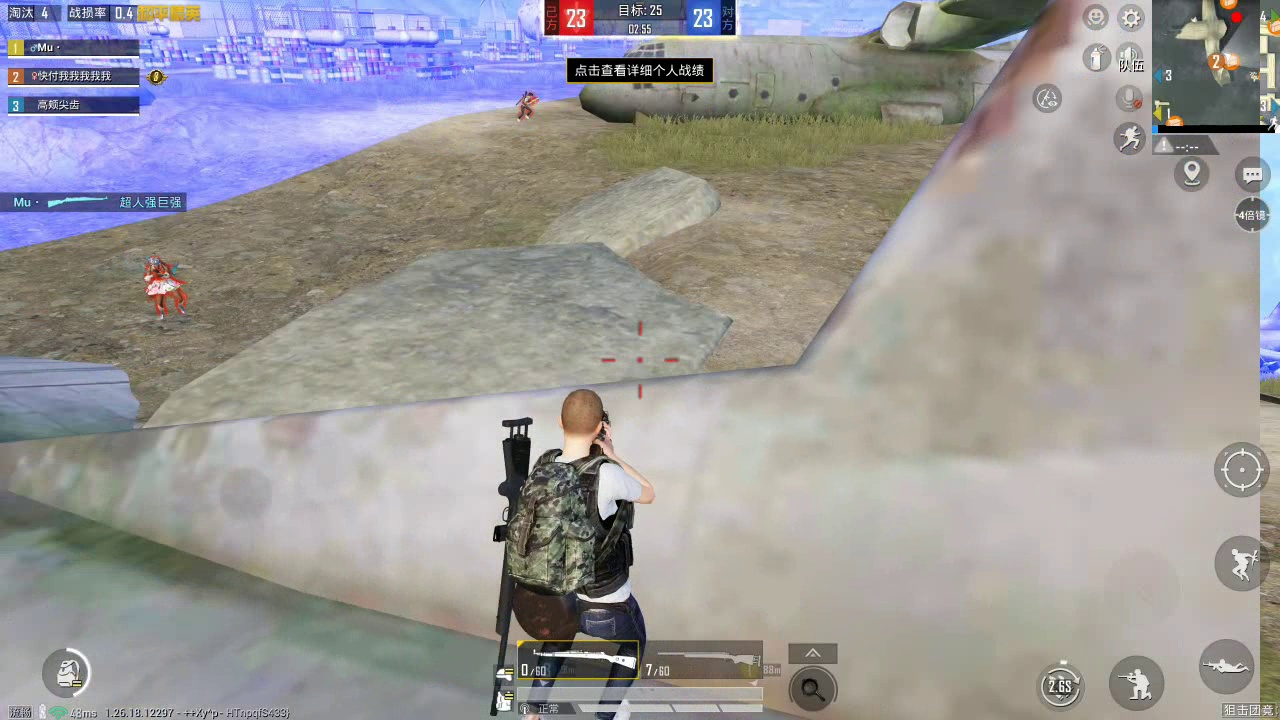enemy: (146, 251, 192, 317), (515, 89, 536, 121)
